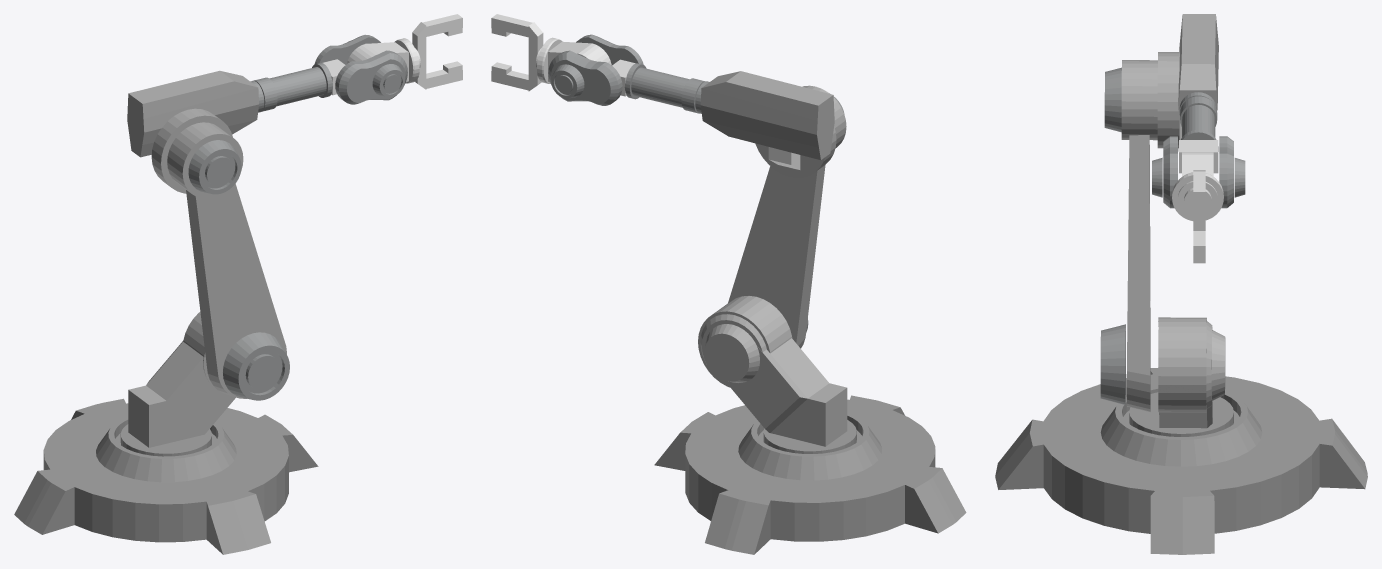
File: roboarm2_no_bones.fbx
3 views of the same model, side by side, from view 1: azimuth 30°, elevation 25°; view 2: azimuth 150°, elevation 25°; view 3: azimuth 270°, elevation 25° (orthographic). The views are drawn at different scales.
Parts seen in each view (by area): view 1: BaseFixed, Joint2Rot, Link1, Link3, Joint1Rot, Joint3Rot, Join2Cover, Link5.001, Join3Cover, JointRot4, Gripper, JointRot5 (+2 smaller); view 2: BaseFixed, Link1, Joint2Rot, Link3, Joint1Rot, Link5.001, JointRot4, Joint3Rot, Gripper, JointRot5, Joint5Cover, GripperHousing; view 3: BaseFixed, Joint1Rot, Link1, Joint2Rot, Joint3Rot, Link3, Join2Cover, Link5.001, JointRot4, JointRot5, Join3Cover, Gripper (+3 smaller).
Part boxes in pixels (x1=…): BaseFixed: x1=14, y1=398, x2=318, y2=554; Joint2Rot: x1=186, y1=184, x2=286, y2=398; Link1: x1=128, y1=312, x2=235, y2=447; Link3: x1=127, y1=70, x2=264, y2=157; Joint1Rot: x1=96, y1=416, x2=236, y2=482; Joint3Rot: x1=151, y1=108, x2=243, y2=198; Join2Cover: x1=223, y1=332, x2=289, y2=400; Link5.001: x1=314, y1=34, x2=407, y2=104; Join3Cover: x1=188, y1=140, x2=241, y2=194; JointRot4: x1=253, y1=63, x2=332, y2=111; Gripper: x1=422, y1=14, x2=462, y2=88; JointRot5: x1=347, y1=38, x2=419, y2=83; BaseFixed: x1=654, y1=395, x2=966, y2=554; Link1: x1=698, y1=296, x2=847, y2=446; Joint2Rot: x1=728, y1=165, x2=825, y2=348; Link3: x1=695, y1=71, x2=834, y2=159; Joint1Rot: x1=738, y1=412, x2=882, y2=480; Link5.001: x1=548, y1=34, x2=643, y2=105; JointRot4: x1=624, y1=63, x2=704, y2=113; Joint3Rot: x1=755, y1=85, x2=846, y2=177; Gripper: x1=491, y1=14, x2=532, y2=90; JointRot5: x1=537, y1=37, x2=611, y2=83; Joint5Cover: x1=551, y1=64, x2=584, y2=98; GripperHousing: x1=528, y1=22, x2=543, y2=91; BaseFixed: x1=995, y1=368, x2=1367, y2=554; Joint1Rot: x1=1100, y1=385, x2=1262, y2=466; Link1: x1=1158, y1=317, x2=1225, y2=428; Joint2Rot: x1=1126, y1=135, x2=1150, y2=412; Joint3Rot: x1=1121, y1=52, x2=1179, y2=148; Link3: x1=1178, y1=14, x2=1218, y2=114; Join2Cover: x1=1100, y1=324, x2=1125, y2=404; Link5.001: x1=1163, y1=136, x2=1233, y2=208; JointRot4: x1=1178, y1=96, x2=1218, y2=151; JointRot5: x1=1172, y1=152, x2=1223, y2=220; Join3Cover: x1=1104, y1=67, x2=1121, y2=132; Gripper: x1=1193, y1=171, x2=1205, y2=263.
Bounding box in the file's own units: 303 × 259 × 193.
Materials: 1 (1 with a texture image).
